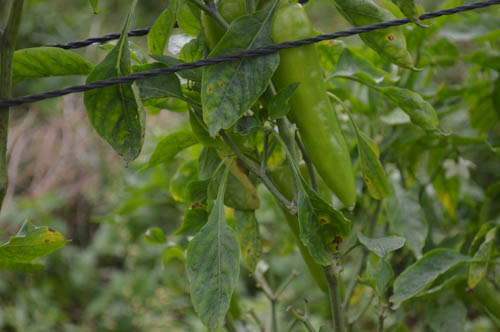ChiliPepper: (271, 5, 364, 206), (274, 162, 341, 293)
